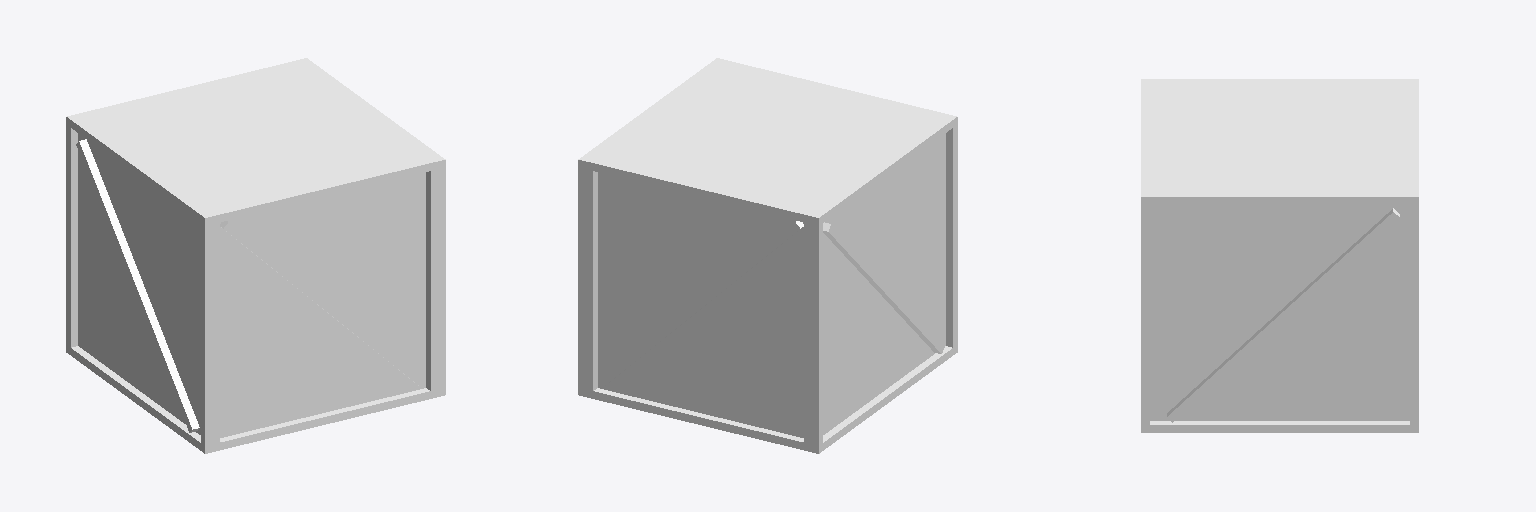
File: crate.obj
3 views of the same model, side by side, from view 1: azimuth 30°, elevation 25°; view 2: azimuth 150°, elevation 25°; view 3: azimuth 270°, elevation 25° (orthographic).
Bounding box in the file's own units: 3.2 × 3 × 3.2.